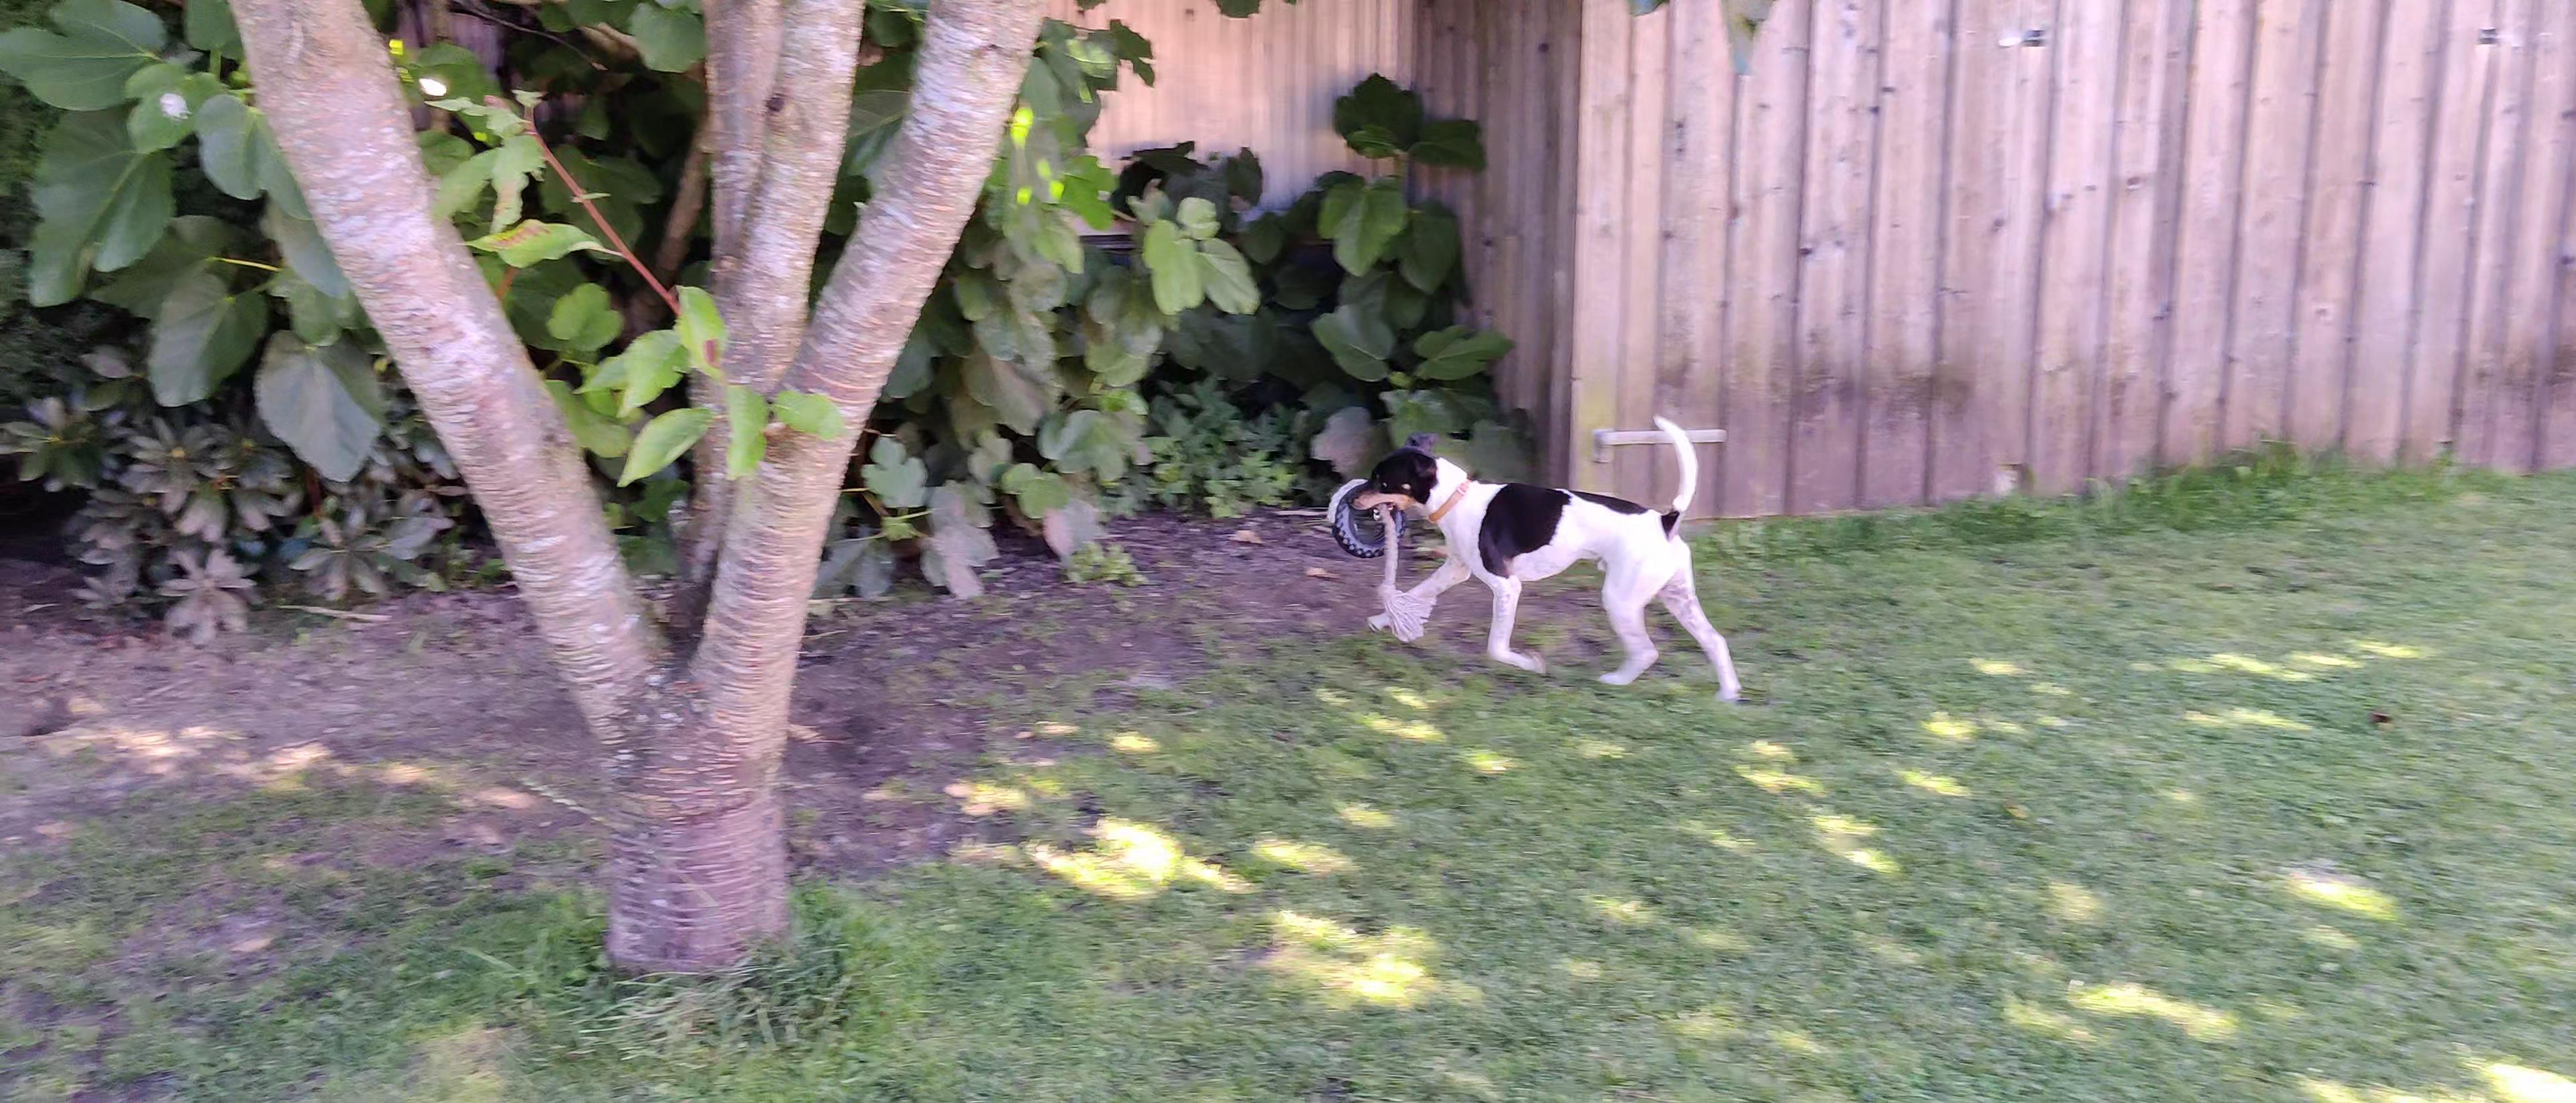Dog: (1339, 411, 1746, 708)
